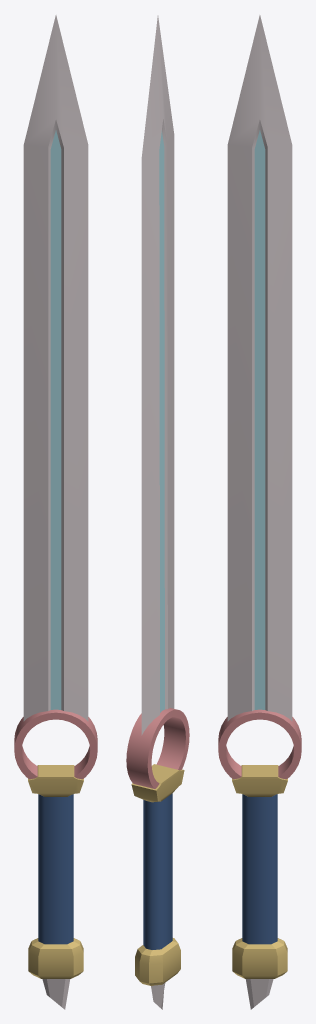
File: Sword5 Rust MultiMaterial.fbx
3 renders of one model, left to right at view 1: azimuth 90°, elevation 25°; view 2: azimuth 150°, elevation 25°; view 3: azimuth 270°, elevation 25°, orthographic.
Visible parts, largest first — view 1: Sword5 Rust MultiMaterial; view 2: Sword5 Rust MultiMaterial; view 3: Sword5 Rust MultiMaterial.
Part boxes in pixels (x1=…): Sword5 Rust MultiMaterial: x1=14, y1=15, x2=97, y2=1009; Sword5 Rust MultiMaterial: x1=126, y1=15, x2=189, y2=1009; Sword5 Rust MultiMaterial: x1=218, y1=15, x2=301, y2=1009.
Size of the model in its own units: 23.83 by 812 by 61.67.
